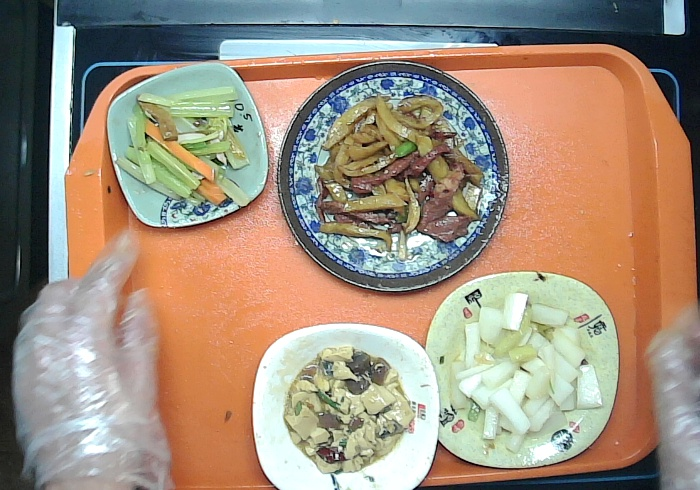NLDX-Bai_Se_Xiao_Fang_Die: (250, 321, 444, 490)
NLDX-Fu_Zi_Fang_Die: (423, 268, 622, 468)
NLDX-Qing_Hua_Xiao_Fang_Die: (103, 62, 273, 231)
NLDX-Qing_Hua_Yuan_Die: (279, 57, 511, 294)
